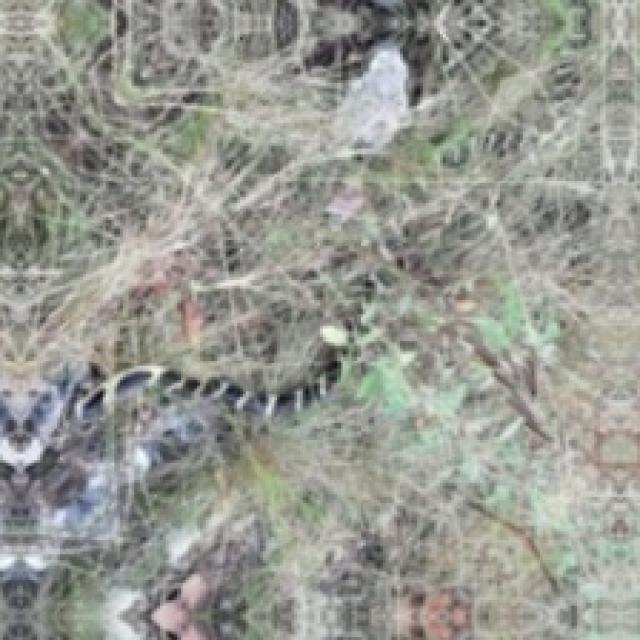king cobra: (75, 365, 332, 420)
